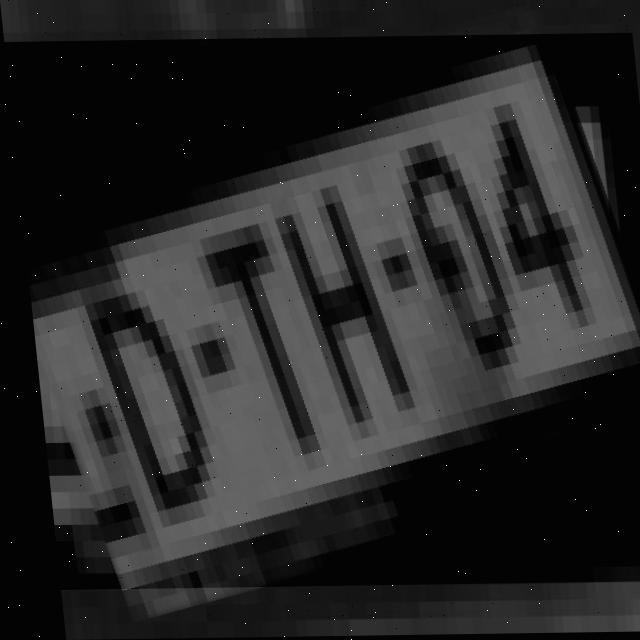LicensePlate: (3, 35, 640, 590)
